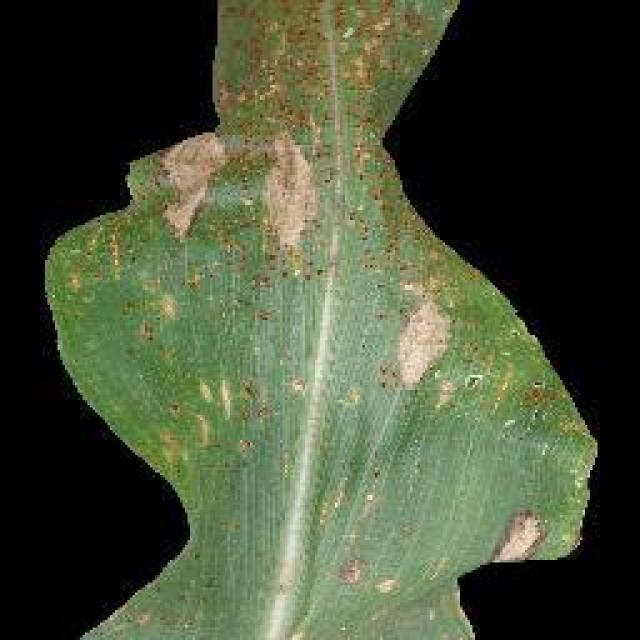Corn Common Rust: (185, 63, 562, 490)
